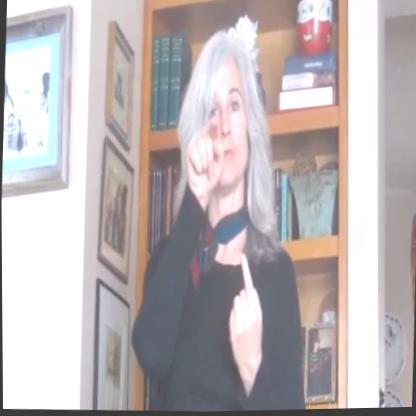NiceToMeetYou: (164, 119, 277, 376)
